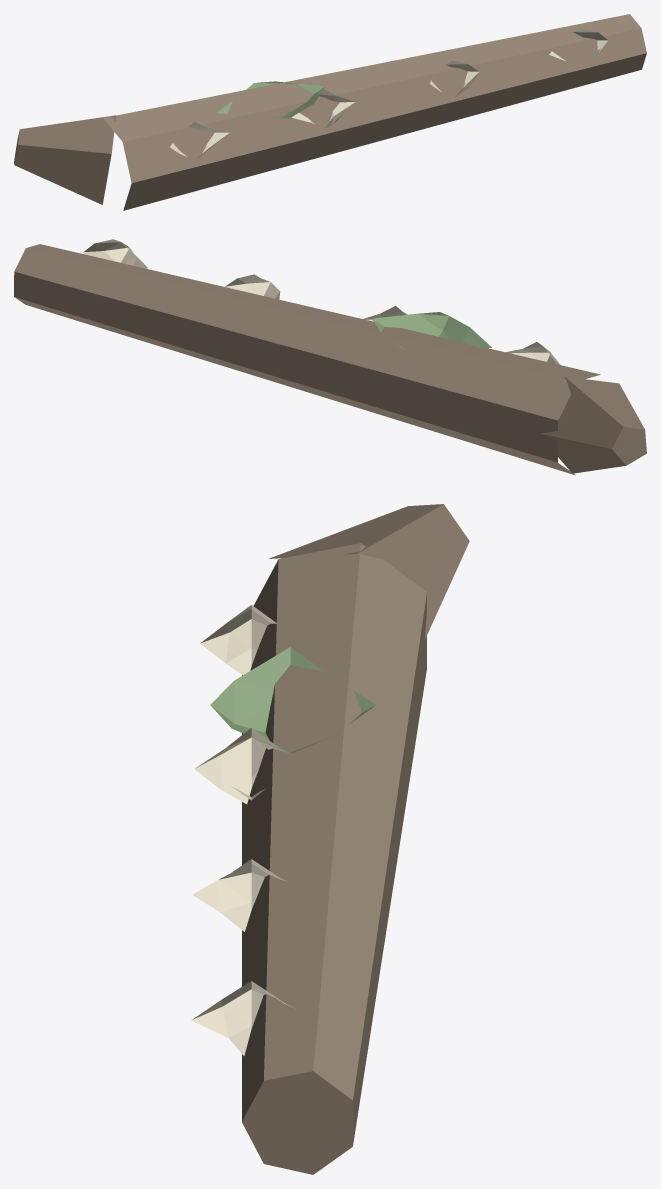
Rendered from log_v20.glb.
3 renders of one model, top to bottom at view 1: azimuth 30°, elevation 25°; view 2: azimuth 150°, elevation 25°; view 3: azimuth 270°, elevation 25°, orthographic. The views are drawn at different scales.
Visible parts, largest first — view 1: lod0; view 2: lod0; view 3: lod0.
Part boxes in pixels (x1,y1,x2,y2): lod0: [14, 14, 646, 210]; lod0: [14, 239, 646, 475]; lod0: [191, 504, 469, 1174].
Size of what is drawn, in the model's own units: 2.8 by 0.444 by 0.5717.
